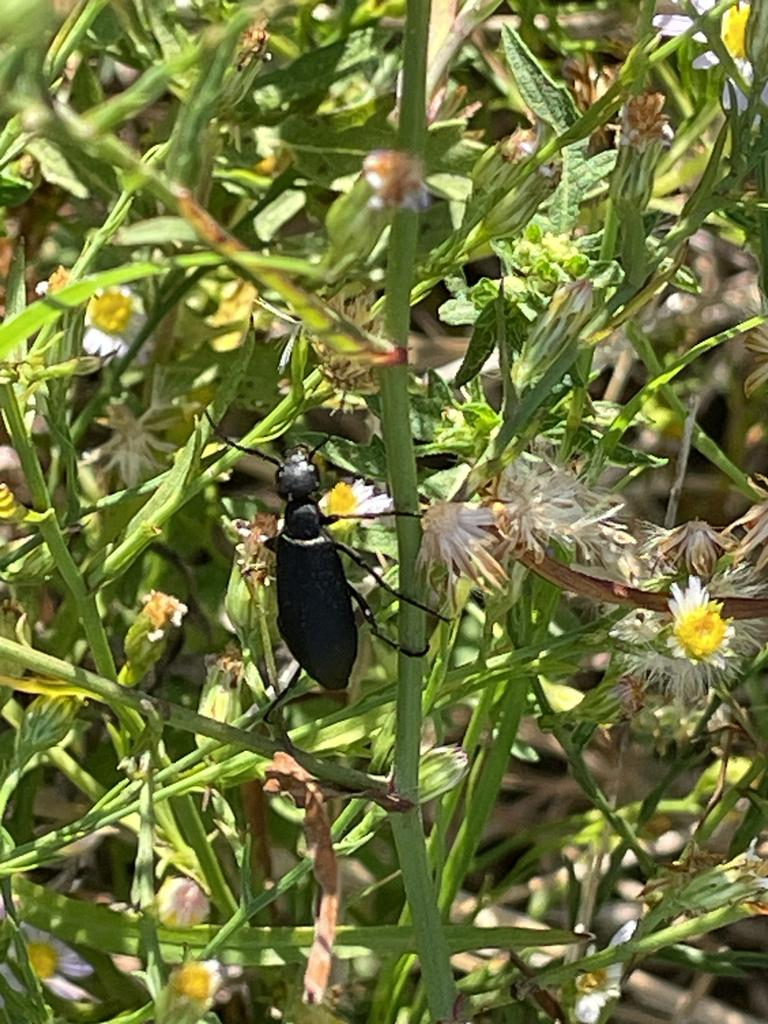blister_beetle: (162, 367, 486, 735)
